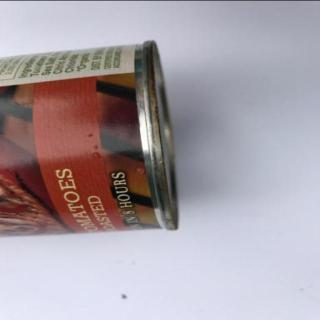Anorganik: (3, 37, 187, 249)
